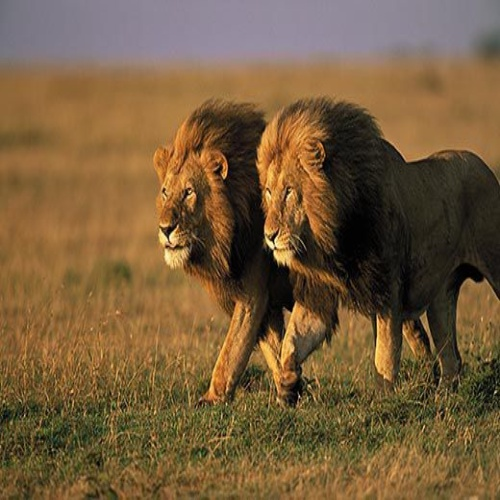lion: (118, 76, 500, 453)
